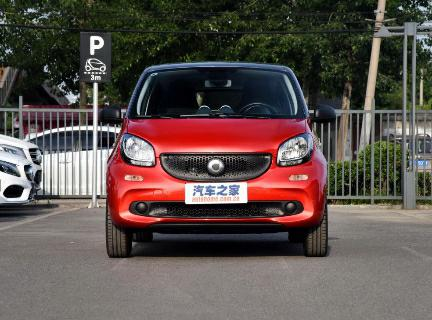smart-forfour: (98, 63, 338, 261)
